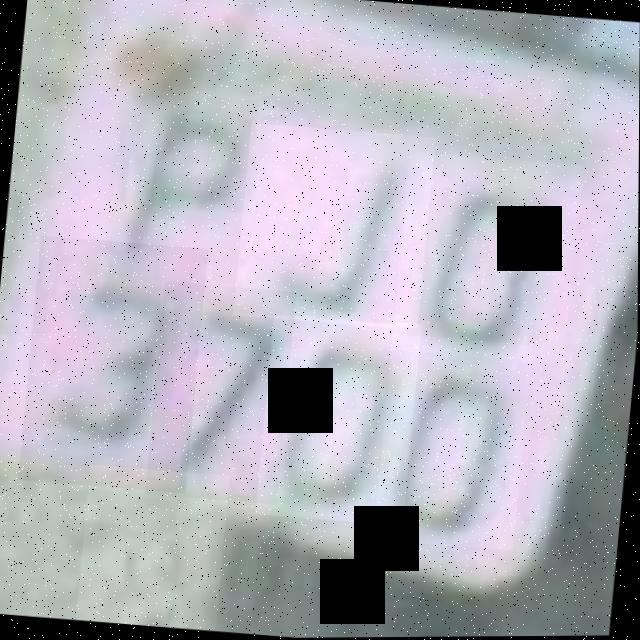0: (255, 314, 422, 526), (374, 335, 532, 552)
3: (18, 234, 209, 494)
6: (76, 463, 230, 632)
7: (145, 281, 296, 506)
J: (233, 122, 435, 331)
O: (391, 152, 582, 367)
P: (101, 89, 258, 289)
